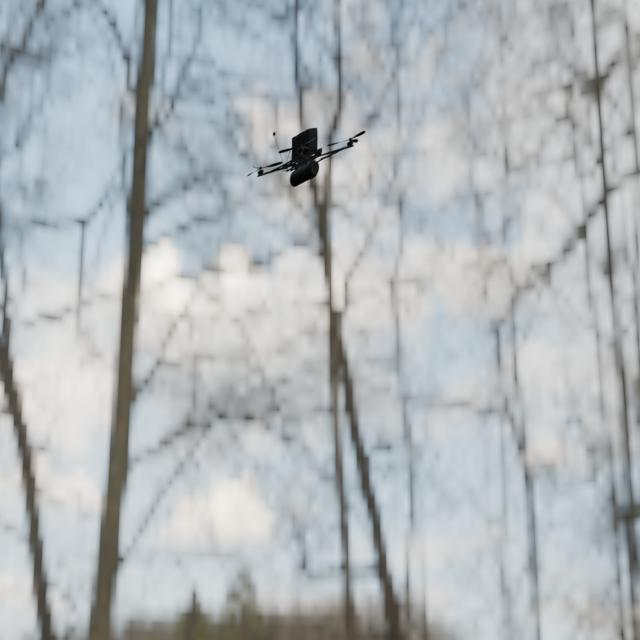drone: (247, 128, 366, 187)
